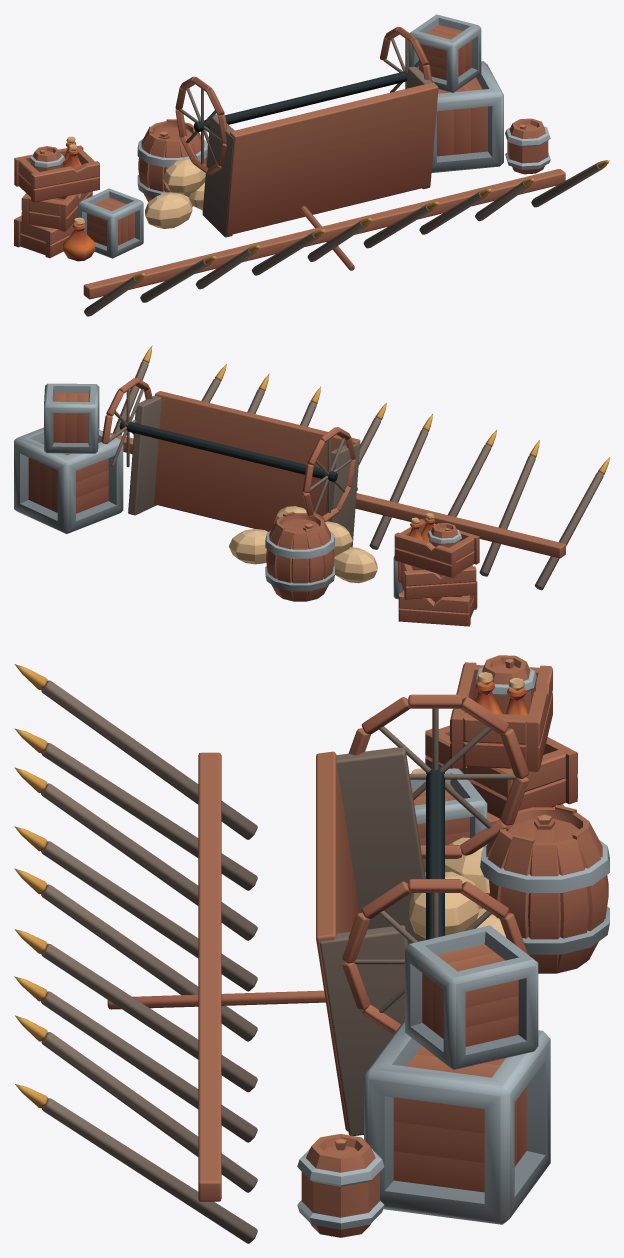
File: harbor_barricade.glb
3 renders of one model, top to bottom at view 1: azimuth 30°, elevation 25°; view 2: azimuth 150°, elevation 25°; view 3: azimuth 270°, elevation 25°, orthographic. The views are drawn at different scales.
Parts seen in each view (by area): view 1: harbor_barricade; view 2: harbor_barricade; view 3: harbor_barricade.
Boxes of the visible parts, bbox=[...] form: harbor_barricade: bbox=[14, 14, 609, 316]; harbor_barricade: bbox=[14, 345, 609, 626]; harbor_barricade: bbox=[14, 655, 609, 1243].
Bounding box in the file's own units: 7.3 × 2.21 × 4.1.
Materials: 2 (2 with a texture image).
